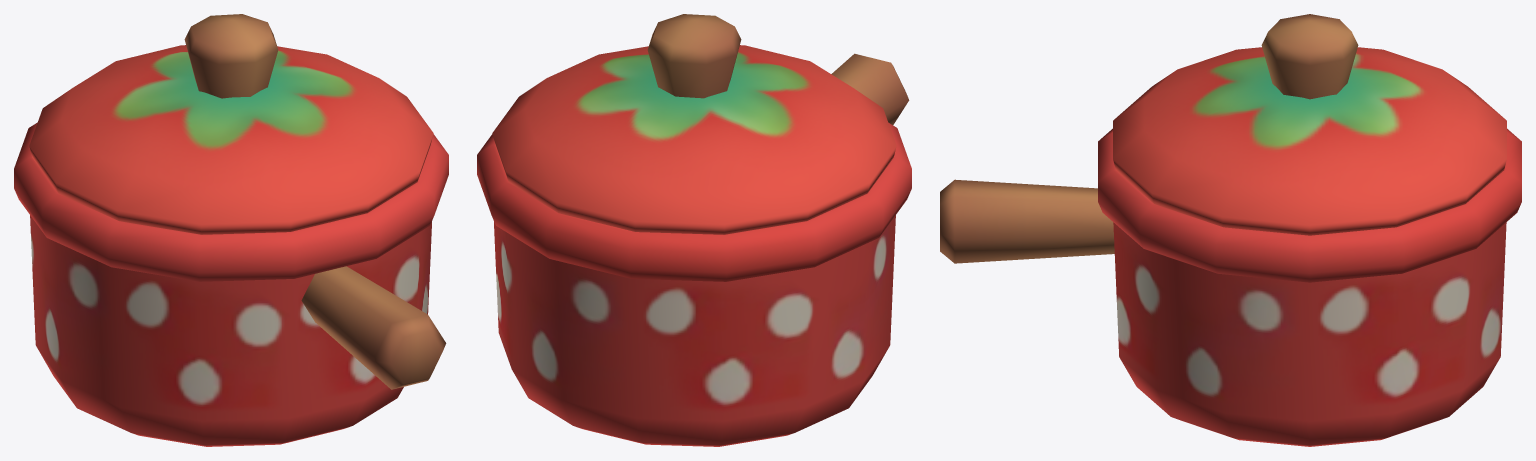
Rendered from Homestead_cm_9.fbx.
The picture shows the model from 3 angles, left to right: view 1: azimuth 30°, elevation 25°; view 2: azimuth 150°, elevation 25°; view 3: azimuth 270°, elevation 25°; orthographic projection.
Visible parts, largest first — view 1: Homestead_cm_9; view 2: Homestead_cm_9; view 3: Homestead_cm_9.
Boxes of the visible parts, x1=… form: Homestead_cm_9: x1=14, y1=14, x2=448, y2=446; Homestead_cm_9: x1=477, y1=14, x2=911, y2=446; Homestead_cm_9: x1=940, y1=14, x2=1521, y2=446.
Bounding box in the file's own units: 61 × 55.28 × 81.65.
